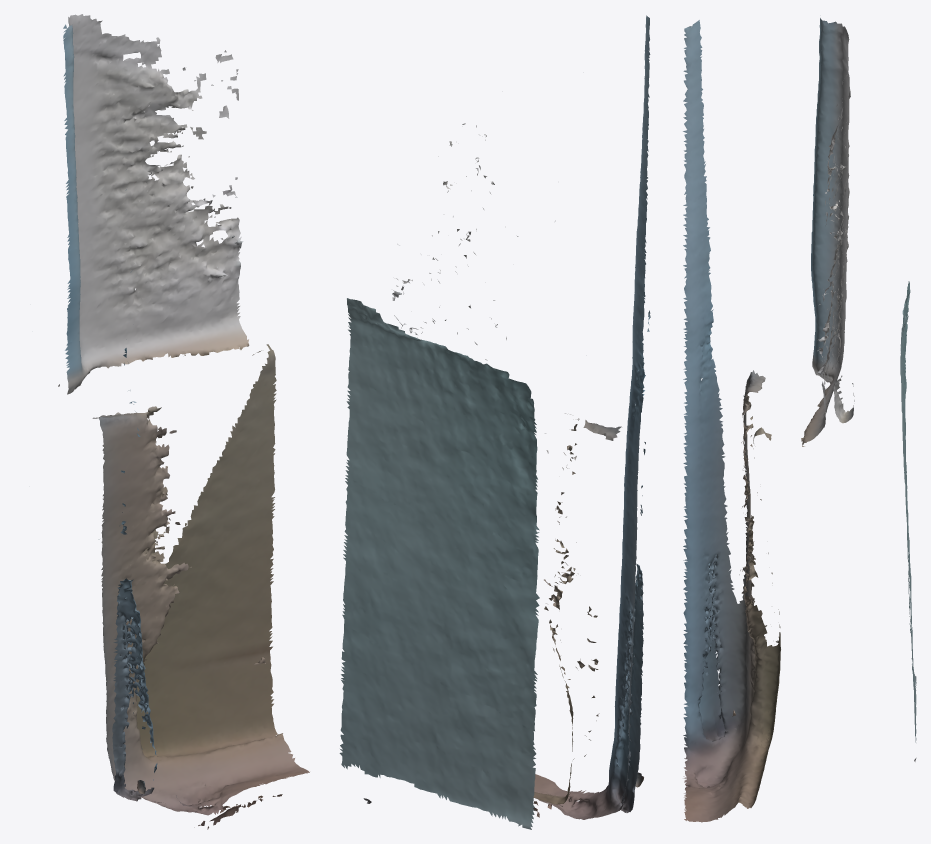
File: apartment-full-21-f7574a99f65e.glb
3 renders of one model, left to right at view 1: azimuth 30°, elevation 25°; view 2: azimuth 150°, elevation 25°; view 3: azimuth 270°, elevation 25°, orthographic. The views are drawn at different scales.
Bounding box in the file's own units: 0.475 × 1.95 × 0.545.
